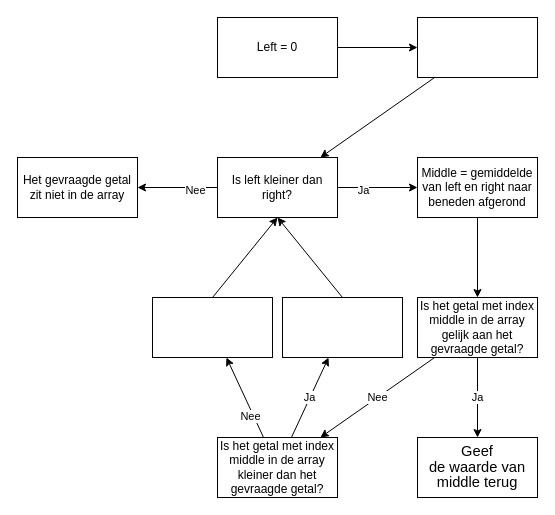
Some shapes in this 555 by 515 pixel diagram are drawn without their labels. Here are the shapes that lost their labels. From the top down, the box of each, then its label:
(416, 16, 538, 78): Right = lengte van array - 1
(152, 296, 272, 358): Right = middle - 1
(282, 296, 402, 358): Left = middle + 1
